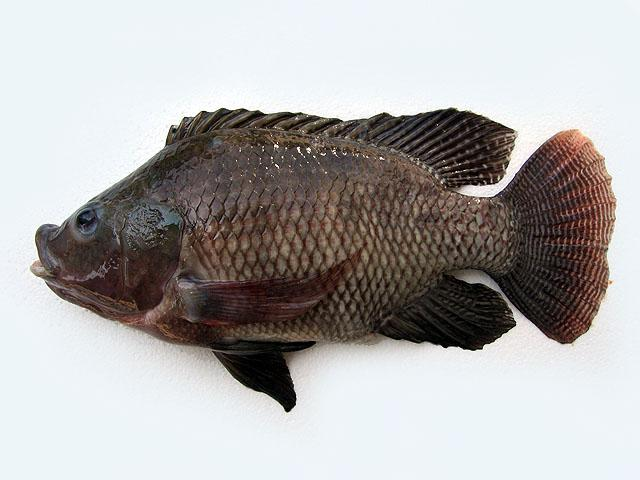Tilapia: (30, 105, 616, 415)
